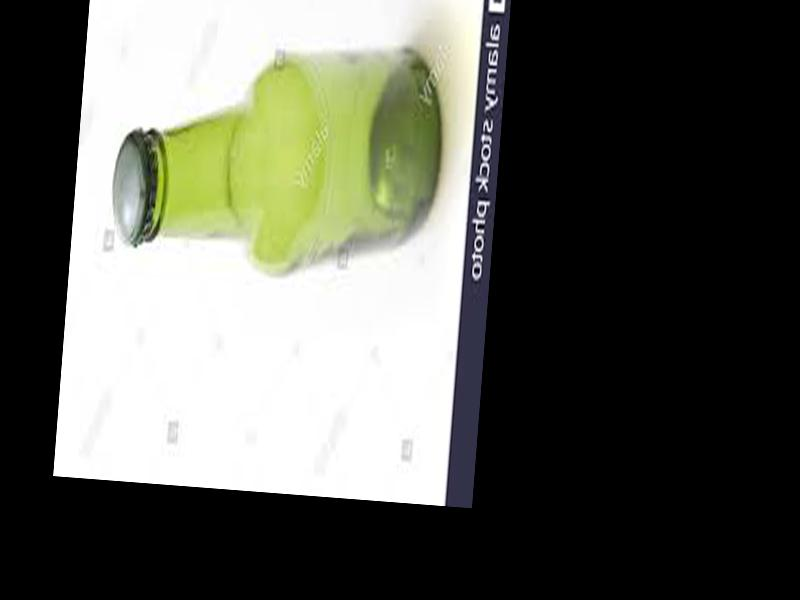Beer: (108, 28, 448, 270)
